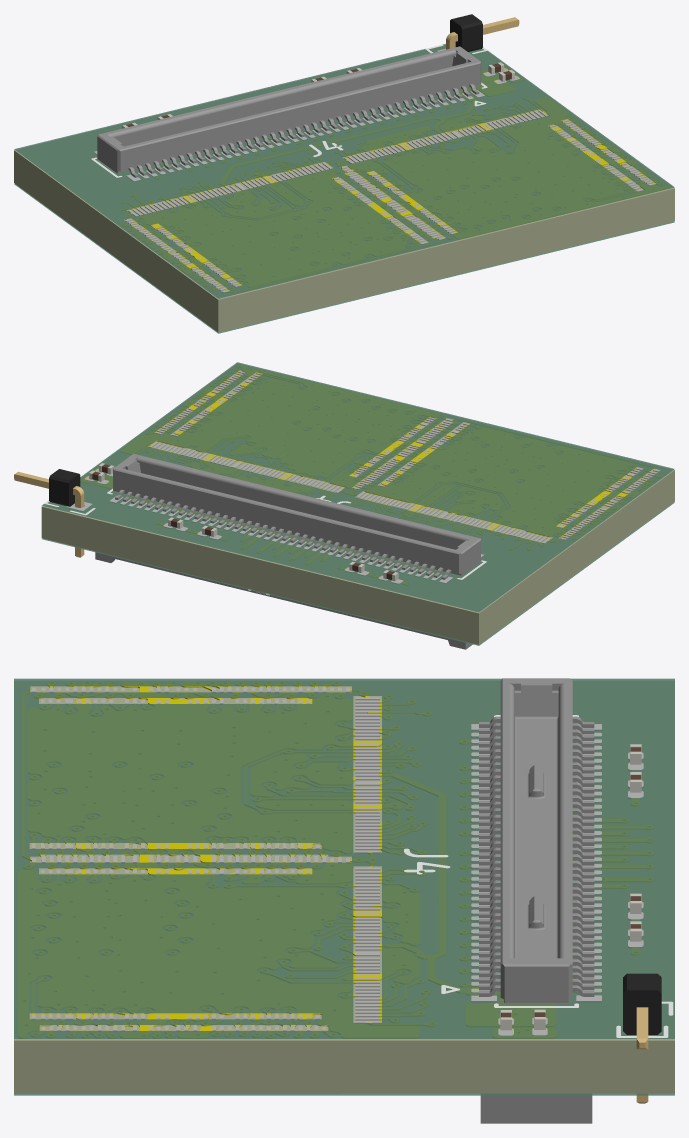
Rendered from asic-top-v4.glb.
3 views of the same model, one above another, from view 1: azimuth 30°, elevation 25°; view 2: azimuth 150°, elevation 25°; view 3: azimuth 270°, elevation 25° (orthographic). The views are drawn at different scales.
Parts seen in each view (by area): view 1: =>[0:1:1:15], =>[0:1:1:17], =>[0:1:1:10], =>[0:1:1:3], =>[0:1:1:11], =>[0:1:1:7], =>[0:1:1:16]; view 2: =>[0:1:1:15], =>[0:1:1:17], =>[0:1:1:10], =>[0:1:1:3], =>[0:1:1:11], =>[0:1:1:7], =>[0:1:1:9], =>[0:1:1:16]; view 3: =>[0:1:1:15], =>[0:1:1:10], =>[0:1:1:17], =>[0:1:1:3], =>[0:1:1:11], =>[0:1:1:9], =>[0:1:1:7], =>[0:1:1:16], =>[0:1:1:12], =>[0:1:1:13].
Part boxes in pixels (x1=…): =>[0:1:1:15]: x1=14, y1=44, x2=674, y2=298; =>[0:1:1:17]: x1=14, y1=45, x2=674, y2=332; =>[0:1:1:10]: x1=121, y1=67, x2=669, y2=292; =>[0:1:1:3]: x1=97, y1=46, x2=481, y2=177; =>[0:1:1:11]: x1=94, y1=49, x2=654, y2=292; =>[0:1:1:7]: x1=446, y1=14, x2=519, y2=51; =>[0:1:1:16]: x1=14, y1=184, x2=674, y2=333; =>[0:1:1:15]: x1=42, y1=362, x2=674, y2=612; =>[0:1:1:17]: x1=41, y1=364, x2=674, y2=644; =>[0:1:1:10]: x1=81, y1=365, x2=661, y2=585; =>[0:1:1:3]: x1=113, y1=453, x2=480, y2=579; =>[0:1:1:11]: x1=67, y1=371, x2=659, y2=583; =>[0:1:1:7]: x1=14, y1=469, x2=84, y2=557; =>[0:1:1:9]: x1=95, y1=552, x2=472, y2=649; =>[0:1:1:16]: x1=42, y1=502, x2=674, y2=645; =>[0:1:1:15]: x1=14, y1=678, x2=674, y2=1038; =>[0:1:1:10]: x1=18, y1=681, x2=653, y2=1038; =>[0:1:1:17]: x1=14, y1=681, x2=674, y2=1093; =>[0:1:1:3]: x1=479, y1=678, x2=594, y2=1002; =>[0:1:1:11]: x1=31, y1=687, x2=643, y2=1035; =>[0:1:1:9]: x1=480, y1=1094, x2=592, y2=1123; =>[0:1:1:7]: x1=623, y1=973, x2=661, y2=1103; =>[0:1:1:16]: x1=14, y1=1093, x2=674, y2=1095; =>[0:1:1:12]: x1=22, y1=682, x2=651, y2=1035; =>[0:1:1:13]: x1=404, y1=715, x2=673, y2=1037.
Bounding box in the file's own units: 0.0238 × 0.0044 × 0.017.
